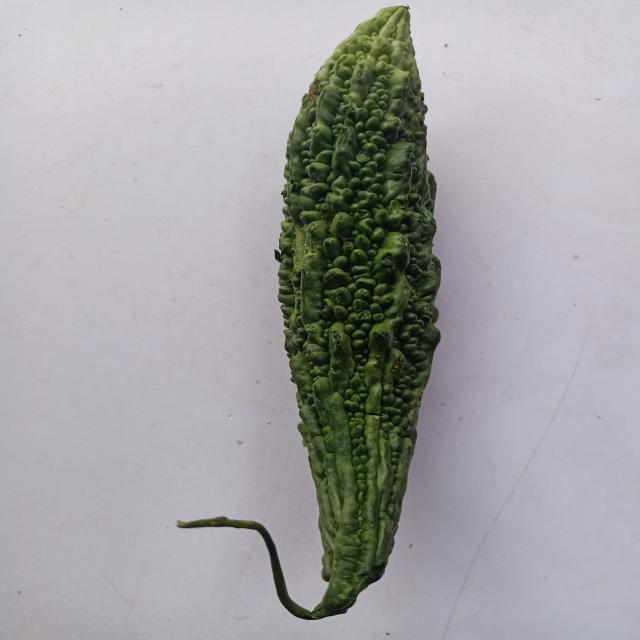Bitter Gourd: (180, 0, 494, 638)
